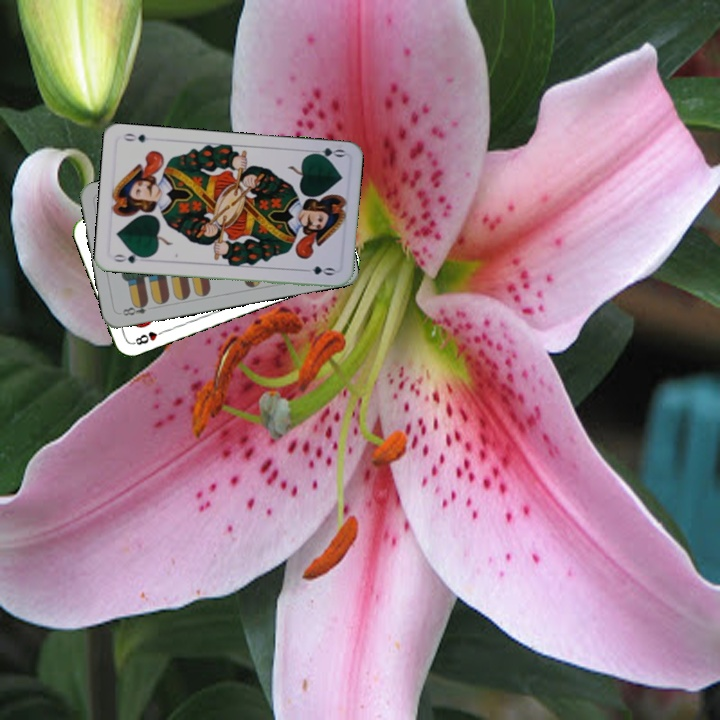E8: (116, 298, 150, 318)
GO: (306, 144, 347, 162), (109, 249, 150, 266)
H8: (129, 326, 168, 348)
